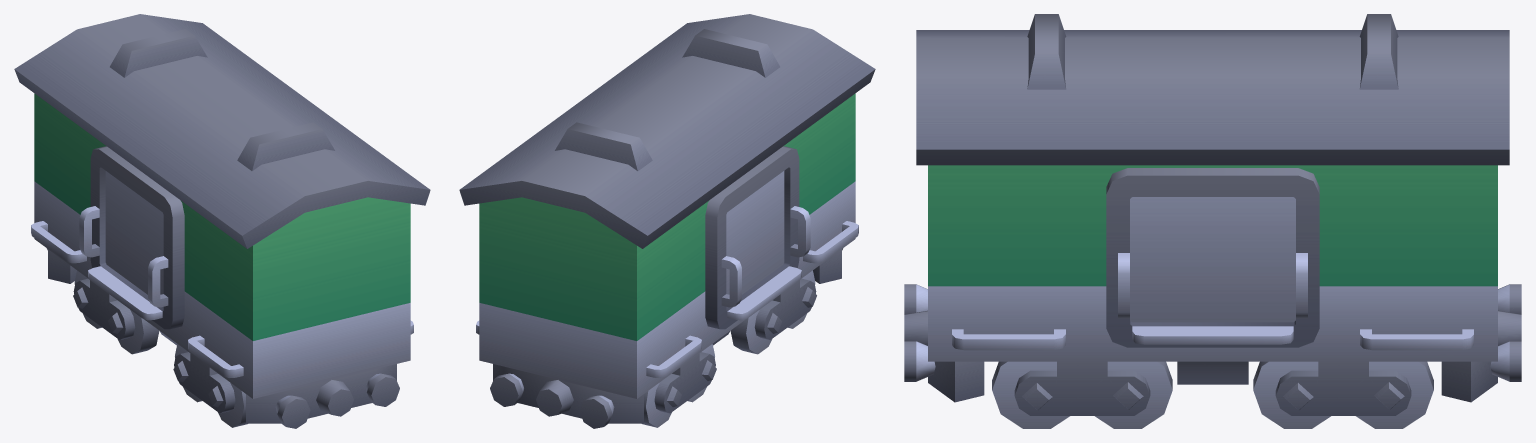
Rendered from train-diesel-box-c.glb.
3 renders of one model, left to right at view 1: azimuth 30°, elevation 25°; view 2: azimuth 150°, elevation 25°; view 3: azimuth 270°, elevation 25°, orthographic. The views are drawn at different scales.
Visible parts, largest first — view 1: train-diesel-box-c; view 2: train-diesel-box-c; view 3: train-diesel-box-c.
Boxes of the visible parts, x1,y1,x2,y2 form: train-diesel-box-c: (14,14,430,428); train-diesel-box-c: (459,14,875,428); train-diesel-box-c: (904,14,1521,428).
Bounding box in the file's own units: 1.35 × 1.65 × 2.6.
1 material, 1 textured.
